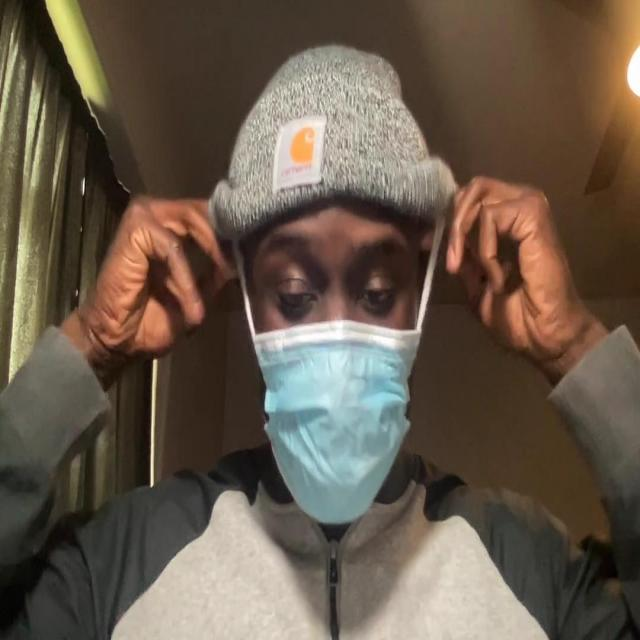face: (224, 193, 439, 531)
